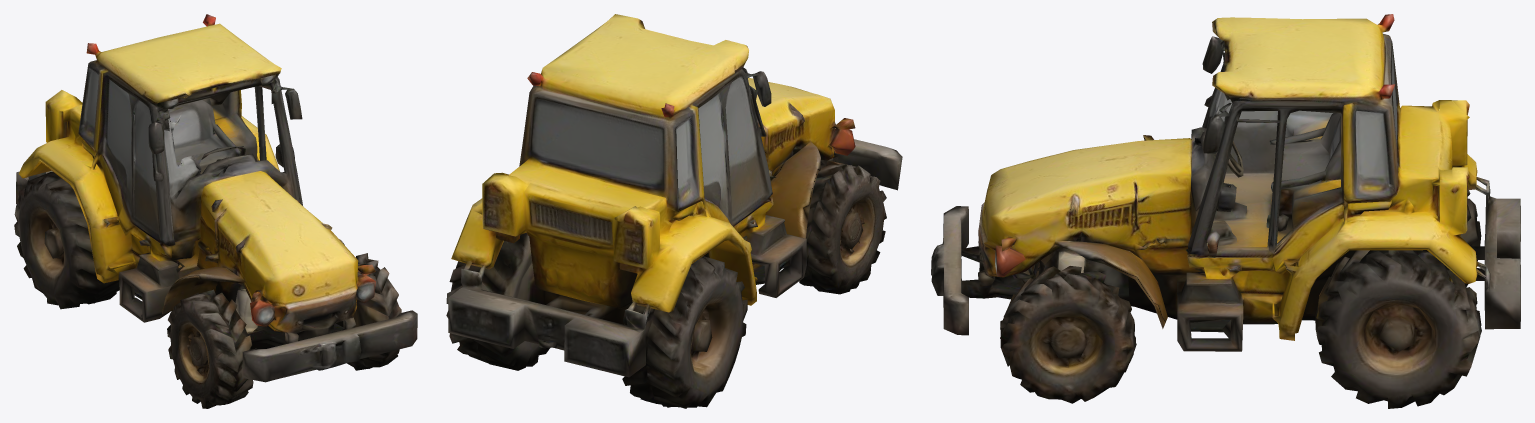
The model's file is ap_tug.glb.
3 renders of one model, left to right at view 1: azimuth 30°, elevation 25°; view 2: azimuth 150°, elevation 25°; view 3: azimuth 270°, elevation 25°, orthographic. The views are drawn at different scales.
Parts seen in each view (by area): view 1: tripo_node_7ef831a1-10af-4457-ba8c-7fb6fc28f590; view 2: tripo_node_7ef831a1-10af-4457-ba8c-7fb6fc28f590; view 3: tripo_node_7ef831a1-10af-4457-ba8c-7fb6fc28f590.
Part boxes in pixels (x1,y1,x2,y2): tripo_node_7ef831a1-10af-4457-ba8c-7fb6fc28f590: [14, 14, 417, 408]; tripo_node_7ef831a1-10af-4457-ba8c-7fb6fc28f590: [446, 14, 902, 408]; tripo_node_7ef831a1-10af-4457-ba8c-7fb6fc28f590: [931, 14, 1520, 408].
Size of the model in its own units: 0.4735 by 0.559 by 0.9776.
Materials: 1 (1 with a texture image).
